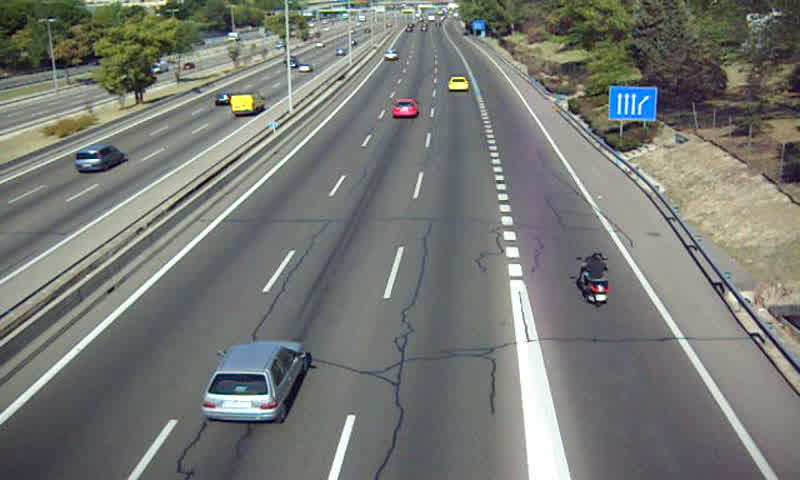car: (201, 341, 306, 420), (390, 98, 419, 119), (448, 77, 470, 93), (384, 50, 398, 62)
motorcycle: (578, 250, 610, 306)
